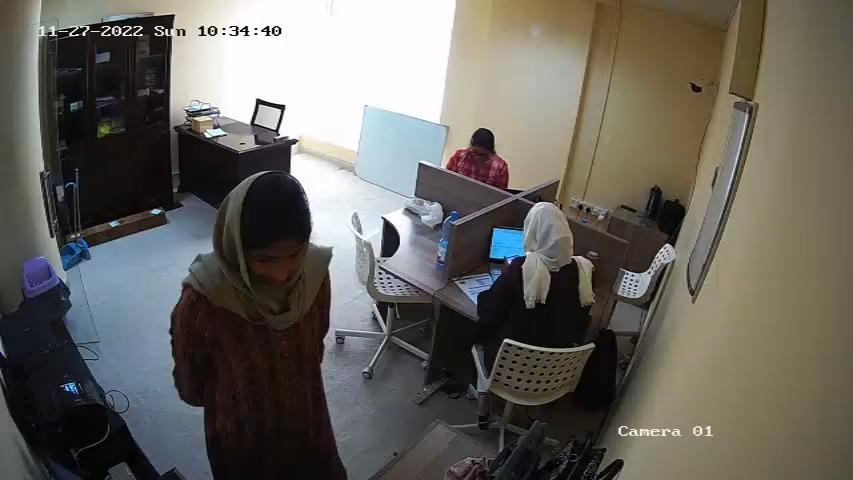no_apron: (196, 289, 331, 470)
